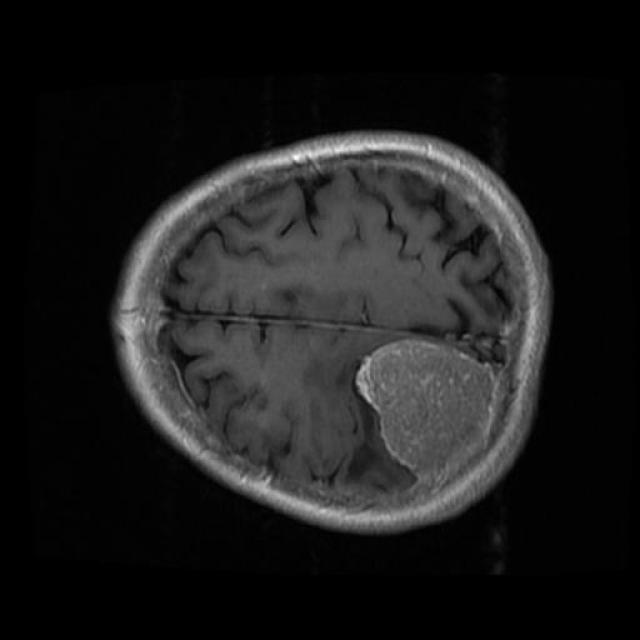Meningioma: (357, 339, 495, 488)
